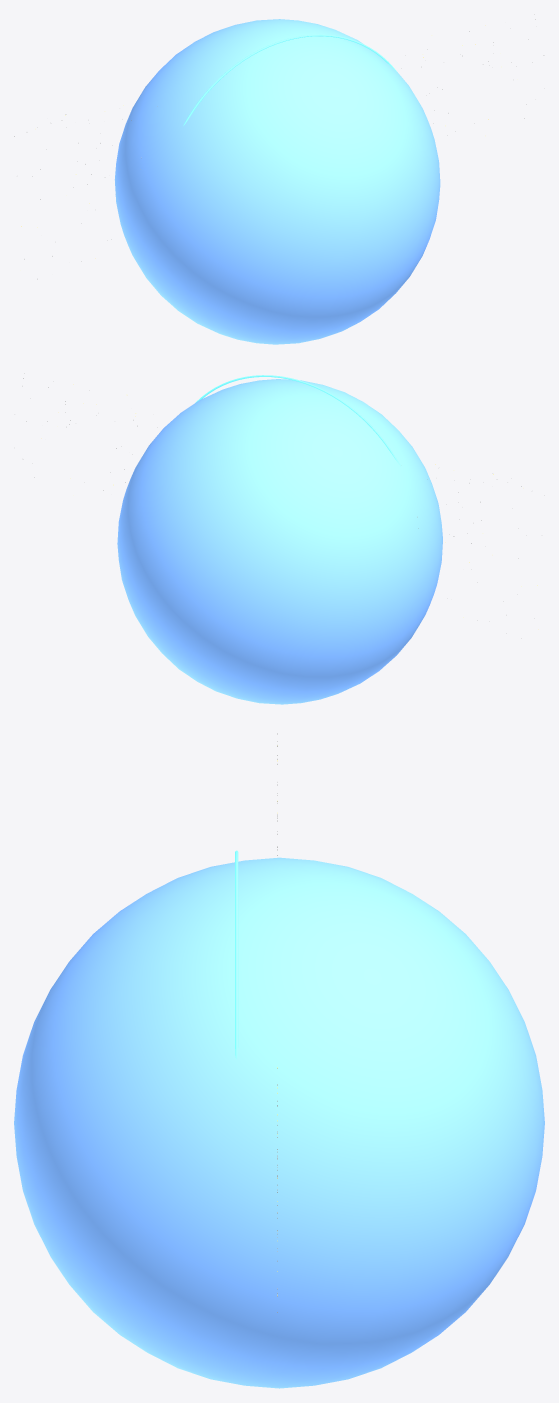
File: 01_L86_PanoramicEarthMaintenanceViewport.glb
3 renders of one model, top to bottom at view 1: azimuth 30°, elevation 25°; view 2: azimuth 150°, elevation 25°; view 3: azimuth 270°, elevation 25°, orthographic. The views are drawn at different scales.
Parts seen in each view (by area): view 1: L86_PanoramicEarthMaintenance_Part_0000, L86_PanoramicEarthMaintenance_Part_0001; view 2: L86_PanoramicEarthMaintenance_Part_0000, L86_PanoramicEarthMaintenance_Part_0001; view 3: L86_PanoramicEarthMaintenance_Part_0000, L86_PanoramicEarthMaintenance_Part_0001.
Boxes of the visible parts, box(x1,y1,x2,y2) form: L86_PanoramicEarthMaintenance_Part_0000: box(114, 19, 440, 344); L86_PanoramicEarthMaintenance_Part_0001: box(183, 34, 397, 125); L86_PanoramicEarthMaintenance_Part_0000: box(117, 379, 442, 704); L86_PanoramicEarthMaintenance_Part_0001: box(195, 375, 400, 466); L86_PanoramicEarthMaintenance_Part_0000: box(14, 857, 544, 1388); L86_PanoramicEarthMaintenance_Part_0001: box(235, 850, 238, 1059).
Size of the model in its own units: 28.03 by 15.19 by 14.9.
